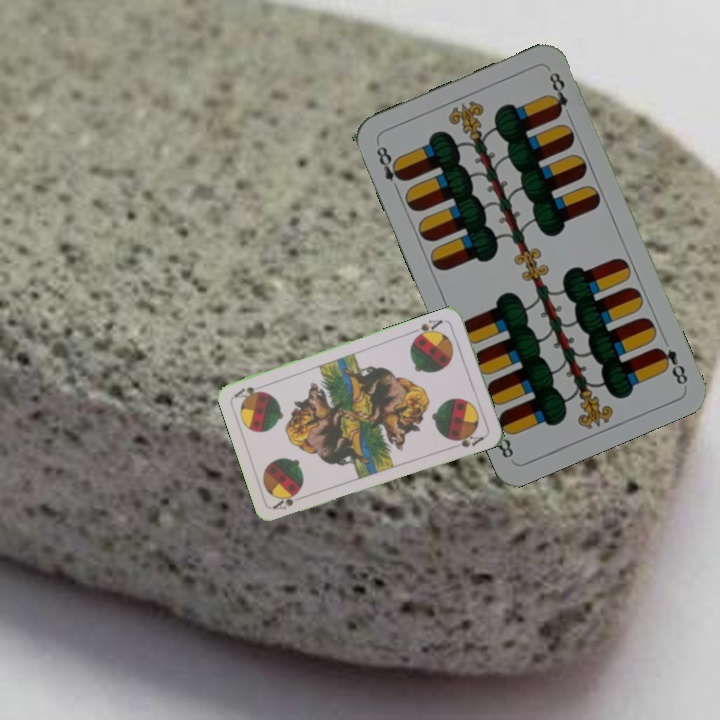E8: (372, 142, 408, 195), (652, 343, 691, 388)
SA: (409, 315, 445, 341), (269, 488, 302, 512)
